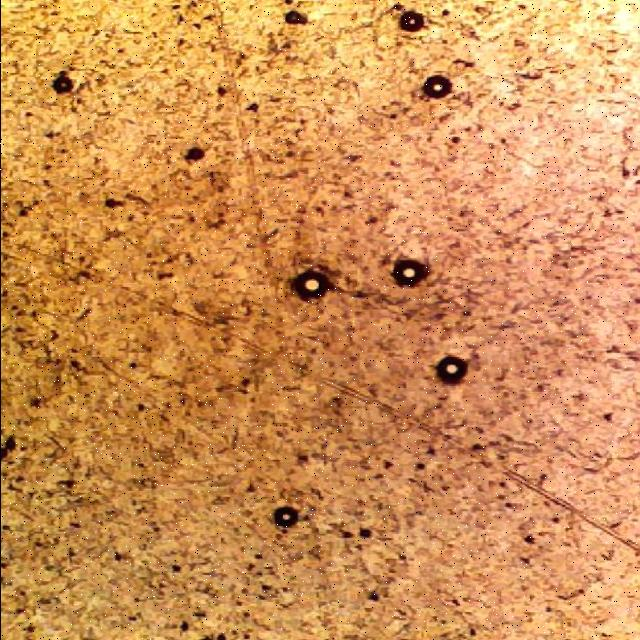microbeads: (284, 262, 334, 304), (428, 351, 469, 384), (390, 255, 426, 292)
